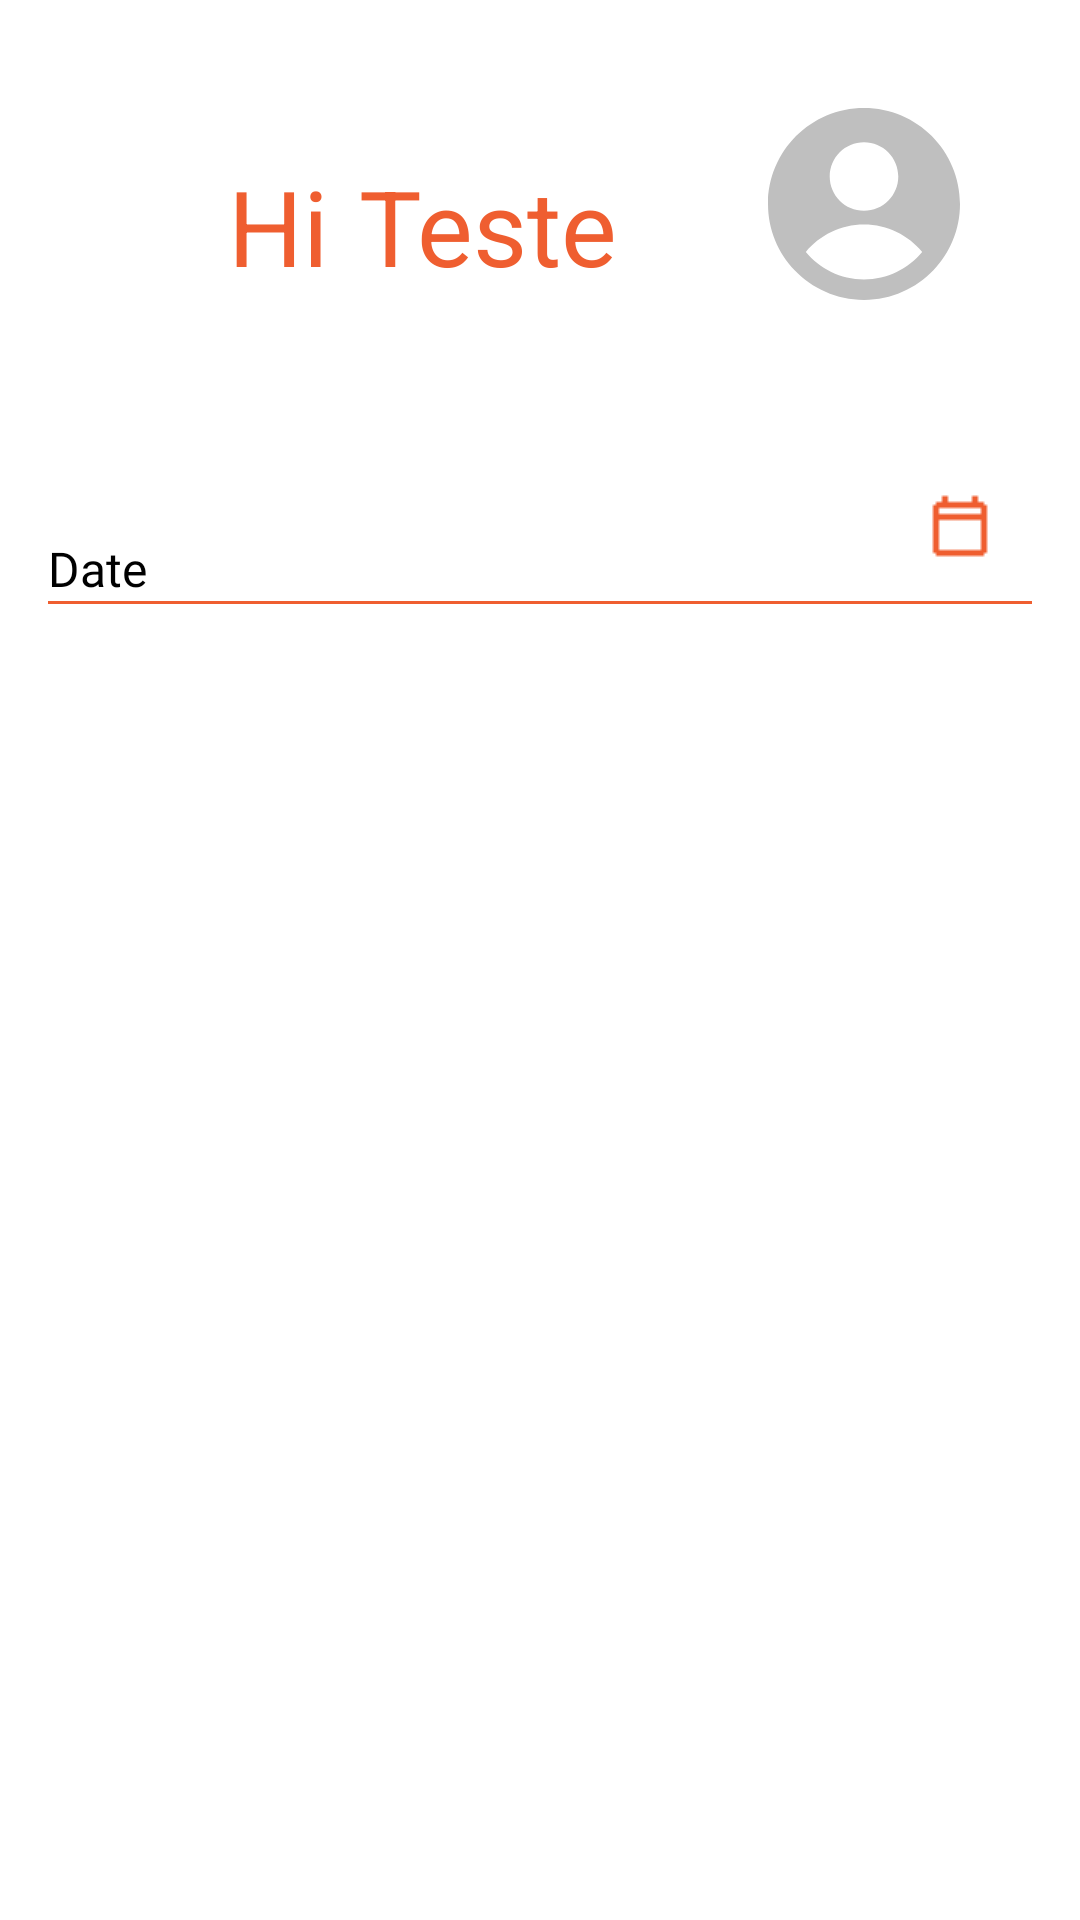

Named icons in this screenshot (1080×1920) and their bounding boxes, rect(x1, y1, x2, y2):
Calendar: rect(932, 495, 988, 557)
profile: rect(768, 108, 960, 300)
